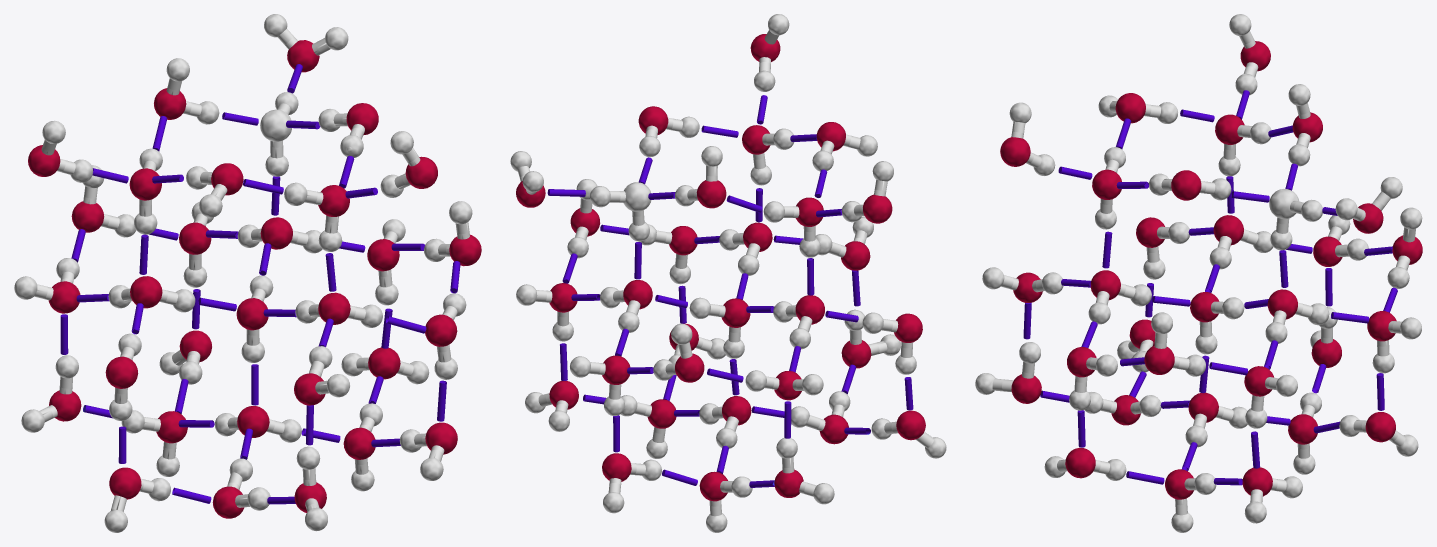
Rendered from ice_lattice.glb.
3 views of the same model, side by side, from view 1: azimuth 30°, elevation 25°; view 2: azimuth 150°, elevation 25°; view 3: azimuth 270°, elevation 25° (orthographic). The views are drawn at different scales.
Parts seen in each view (by area): view 1: Water_box_vs_ice_lattice.1981; view 2: Water_box_vs_ice_lattice.1981; view 3: Water_box_vs_ice_lattice.1981.
Part boxes in pixels (x1=…): Water_box_vs_ice_lattice.1981: x1=14, y1=14, x2=481, y2=532; Water_box_vs_ice_lattice.1981: x1=510, y1=14, x2=946, y2=532; Water_box_vs_ice_lattice.1981: x1=975, y1=14, x2=1422, y2=532.
Bounding box in the file's own units: 47.55 × 49.51 × 49.18.
